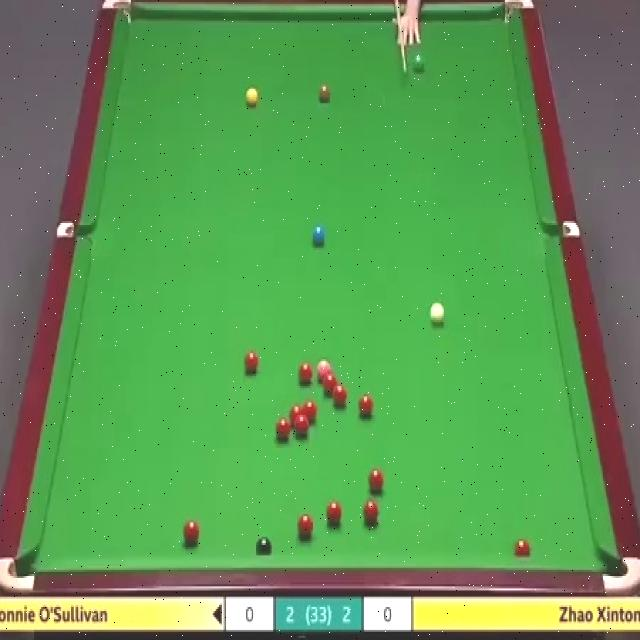black-ball: (258, 536, 276, 555)
blue-ball: (311, 226, 326, 243)
brown-ball: (318, 84, 332, 107)
green-ball: (414, 54, 424, 69)
pink-ball: (317, 360, 331, 380)
red-ball: (182, 519, 200, 545), (326, 497, 342, 526), (368, 468, 384, 496), (302, 400, 319, 426), (274, 417, 291, 442), (297, 514, 314, 539), (244, 350, 258, 375), (364, 501, 379, 524), (514, 536, 529, 557), (295, 416, 309, 438), (322, 372, 337, 392), (333, 386, 346, 408), (358, 396, 373, 415), (297, 362, 311, 382), (290, 406, 304, 425)
white-ball: (428, 300, 444, 326)
yellow-ball: (246, 86, 258, 108)
